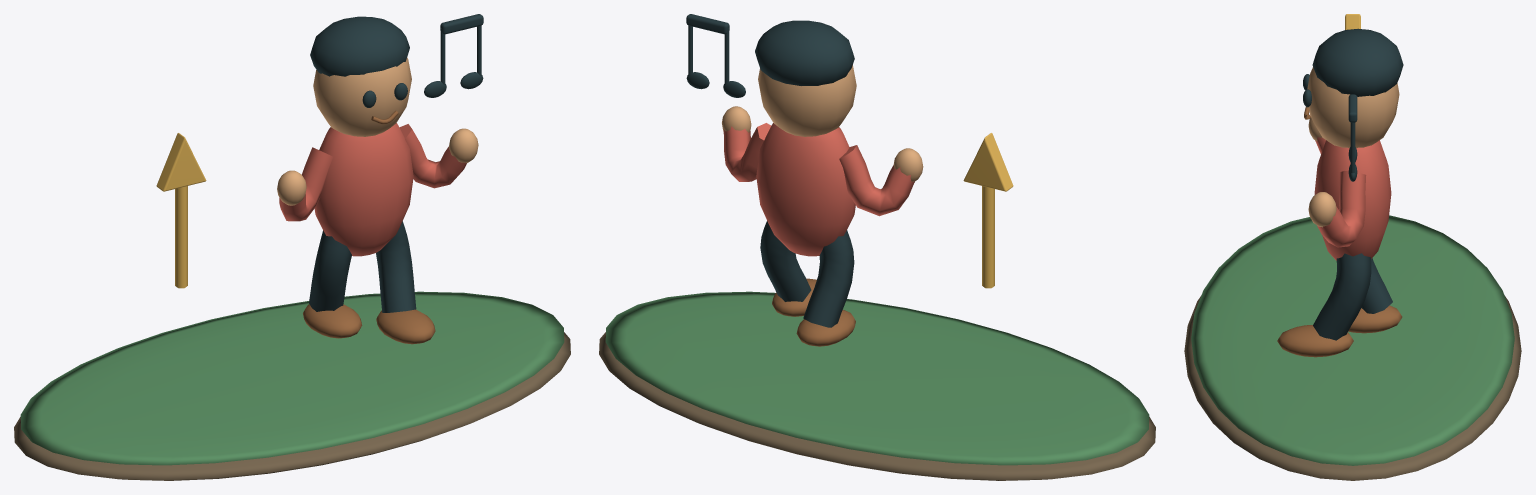
File: dancing.glb
3 views of the same model, side by side, from view 1: azimuth 30°, elevation 25°; view 2: azimuth 150°, elevation 25°; view 3: azimuth 270°, elevation 25° (orthographic).
Visible parts, largest first — view 1: dancing_surface_01, dancing_surface_06, dancing_surface_04, dancing_surface_00, dancing_surface_03, dancing_surface_05, dancing_surface_02; view 2: dancing_surface_01, dancing_surface_06, dancing_surface_04, dancing_surface_00, dancing_surface_03, dancing_surface_02, dancing_surface_05; view 3: dancing_surface_01, dancing_surface_04, dancing_surface_06, dancing_surface_00, dancing_surface_03, dancing_surface_05.
Part boxes in pixels (left/top/right/bottom): dancing_surface_01: left=20, top=291, right=564, bottom=465; dancing_surface_06: left=279, top=123, right=466, bottom=256; dancing_surface_04: left=309, top=14, right=483, bottom=312; dancing_surface_00: left=14, top=332, right=570, bottom=480; dancing_surface_03: left=277, top=57, right=478, bottom=205; dancing_surface_05: left=303, top=110, right=435, bottom=344; dancing_surface_02: left=156, top=133, right=206, bottom=288; dancing_surface_01: left=605, top=291, right=1149, bottom=465; dancing_surface_06: left=723, top=123, right=914, bottom=256; dancing_surface_04: left=686, top=14, right=854, bottom=327; dancing_surface_00: left=599, top=332, right=1155, bottom=480; dancing_surface_03: left=722, top=65, right=923, bottom=181; dancing_surface_02: left=963, top=133, right=1013, bottom=288; dancing_surface_05: left=772, top=278, right=855, bottom=346; dancing_surface_01: left=1191, top=215, right=1514, bottom=465; dancing_surface_04: left=1303, top=28, right=1403, bottom=340; dancing_surface_06: left=1314, top=137, right=1391, bottom=260; dancing_surface_00: left=1184, top=295, right=1521, bottom=480; dancing_surface_03: left=1307, top=67, right=1399, bottom=227; dancing_surface_05: left=1277, top=107, right=1402, bottom=357.
Size of the model in its own units: 4.56 by 2.99 by 2.5.
